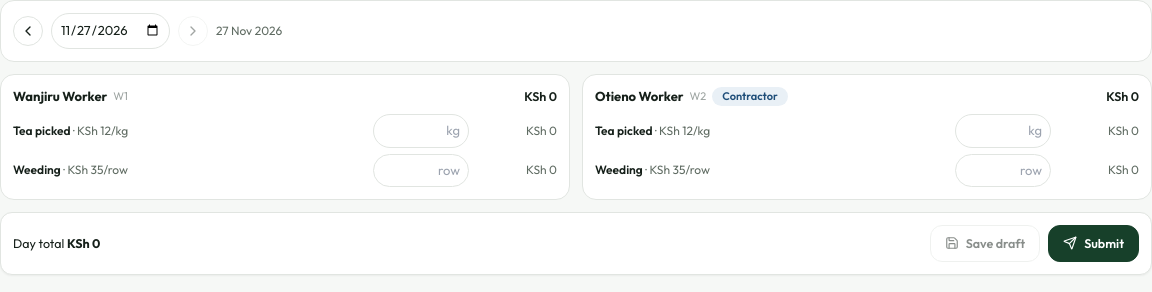
it: daily entry › refuses a quantity that isn't a number
Later steps or results of the test are not shown.
Type "lots" into the field named "Otieno Worker Tea picked" at (1003, 131), box top-left (955, 114), bottom-right (1051, 148)
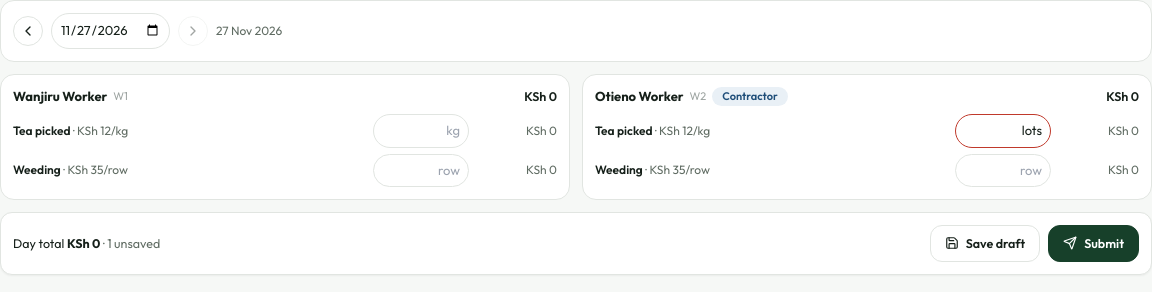
Check: the field named "Otieno Worker Tea picked" is marked as invalid, box top-left (955, 114), bottom-right (1051, 148)
